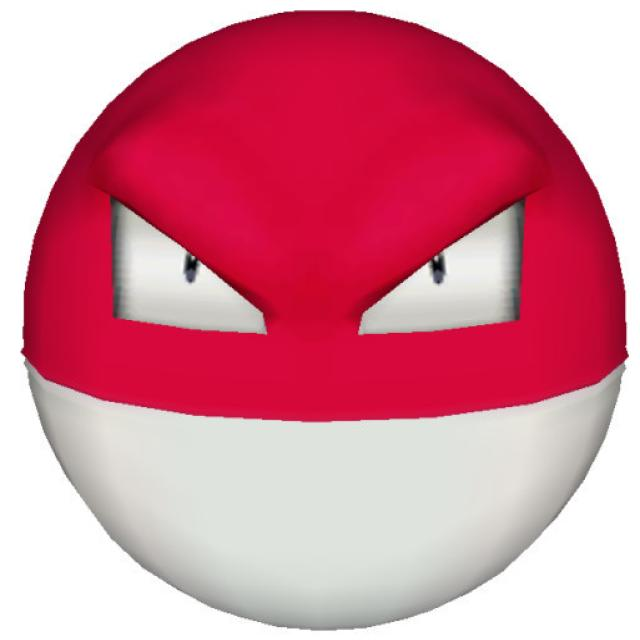Voltorb: (23, 11, 628, 627)
